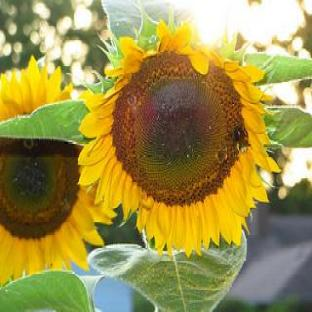sunflower: (78, 21, 282, 257)
